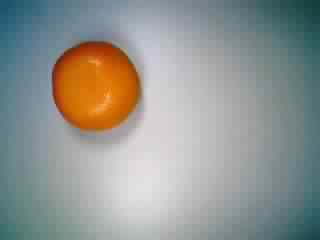orange: (45, 36, 141, 132)
